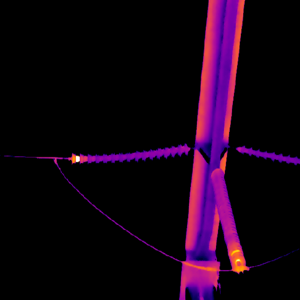insulator: (210, 165, 246, 268), (69, 141, 189, 164), (236, 144, 300, 164)
